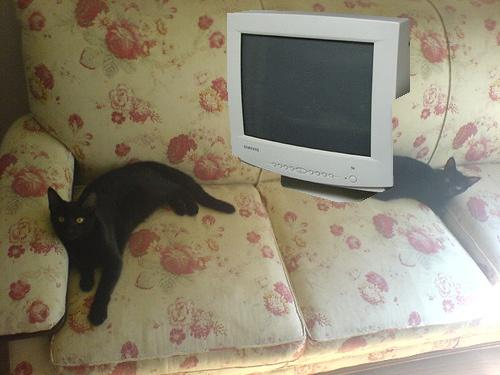tampered: (228, 11, 410, 202)
